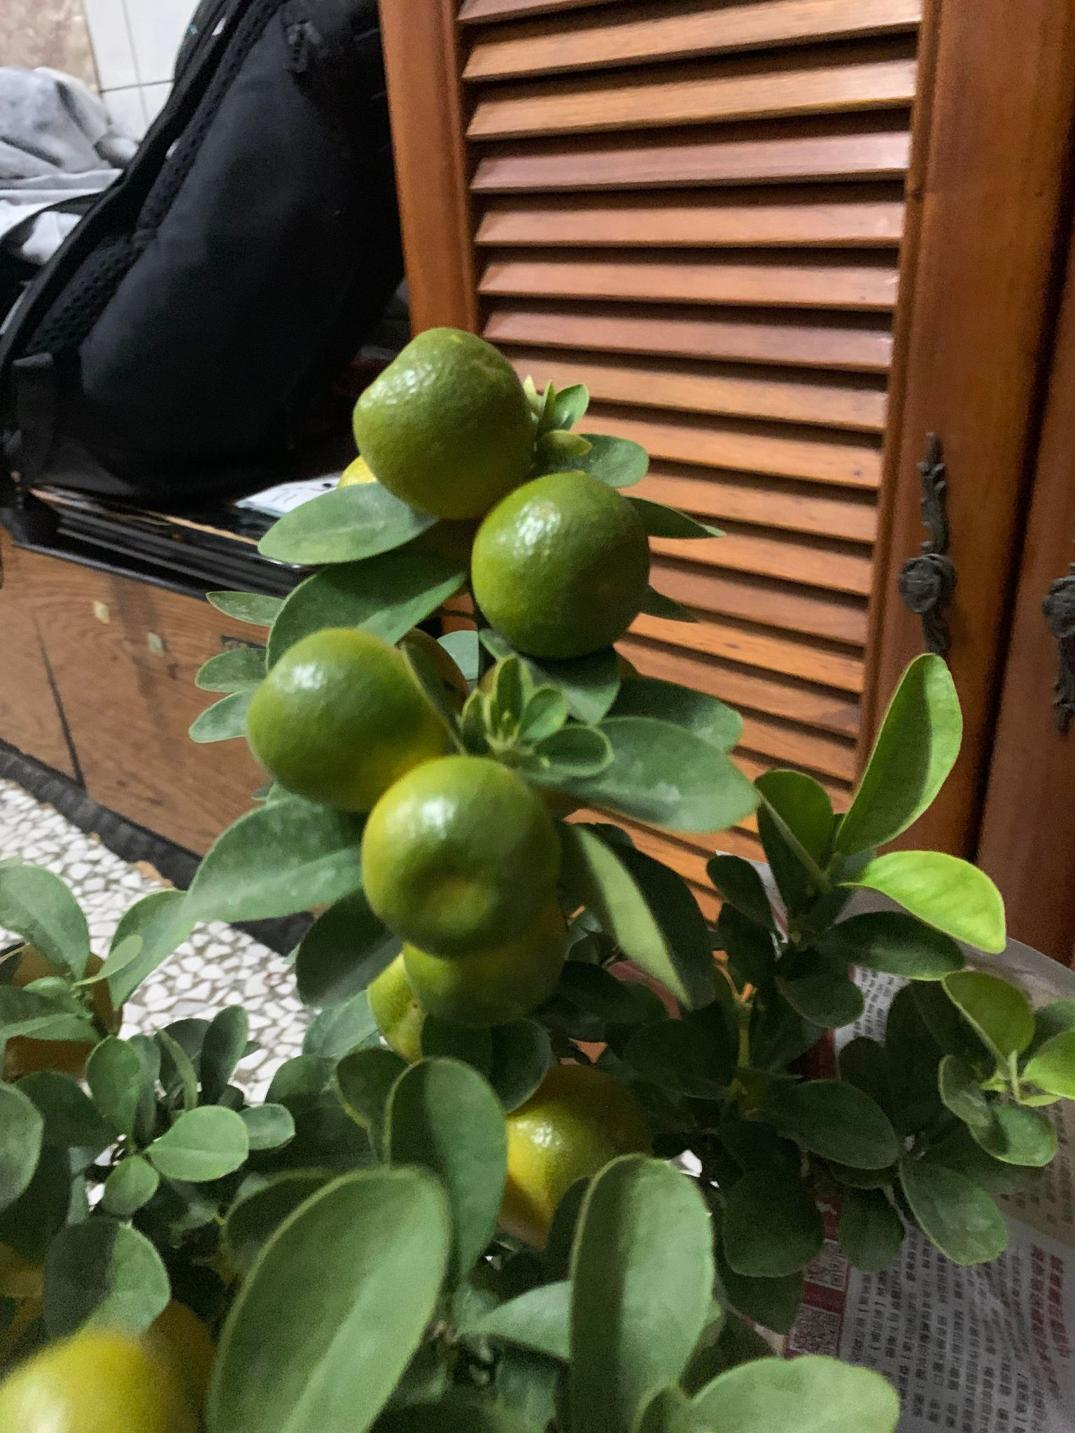Kumquat: (361, 753, 559, 952), (343, 327, 537, 523), (247, 624, 439, 816), (463, 469, 653, 648)
